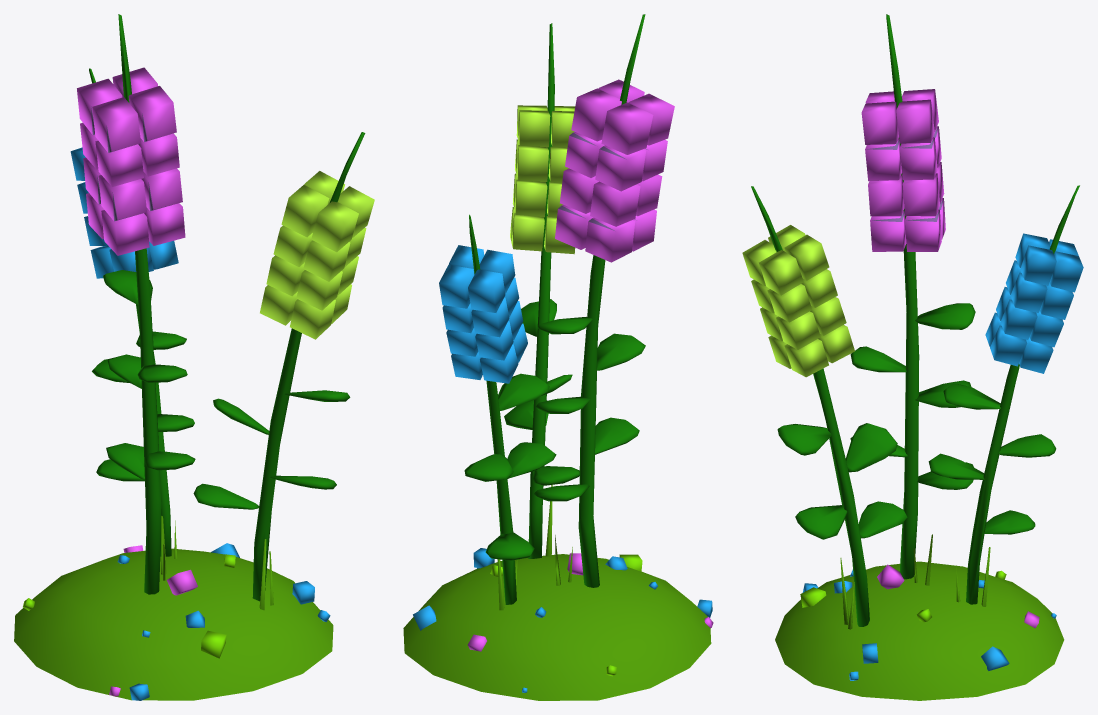
File: Cropp.fbx
The picture shows the model from 3 angles, left to right: view 1: azimuth 30°, elevation 25°; view 2: azimuth 150°, elevation 25°; view 3: azimuth 270°, elevation 25°; orthographic projection. The views are drawn at different scales.
Parts seen in each view (by area): view 1: Cropp_LOD0; view 2: Cropp_LOD0; view 3: Cropp_LOD0.
Boxes of the visible parts, x1,y1,x2,y2 form: Cropp_LOD0: (14,14,374,700); Cropp_LOD0: (403,14,713,700); Cropp_LOD0: (742,14,1083,700).
Size of what is drawn, in the model's own units: 558 by 1269 by 659.
